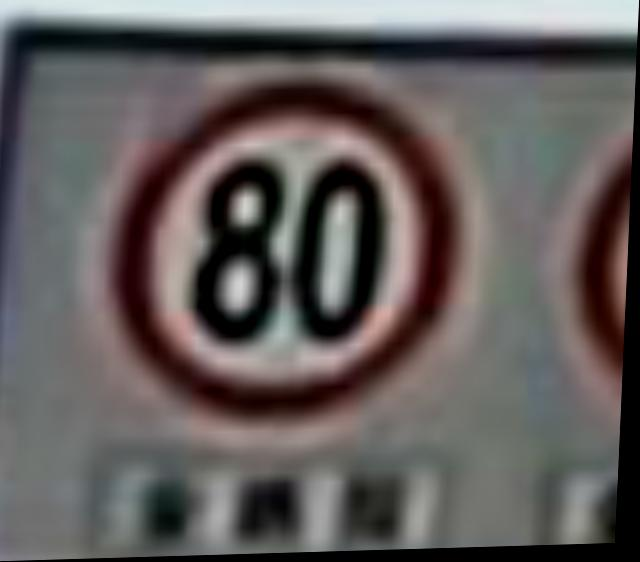limit80: (107, 61, 460, 419)
